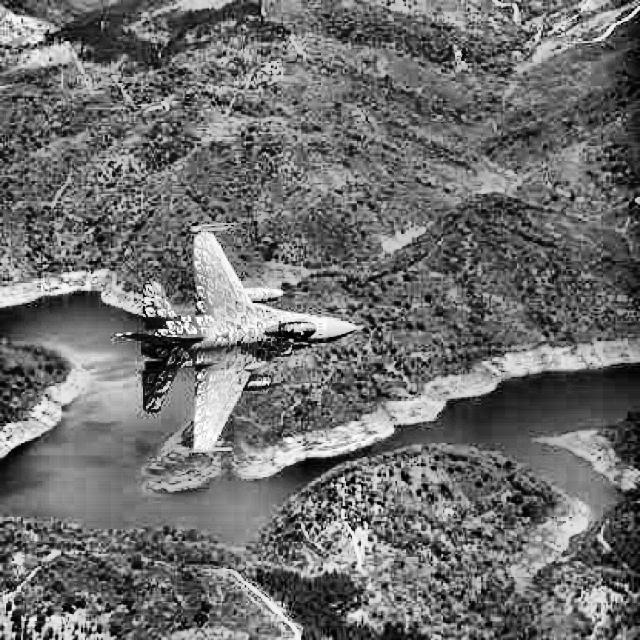F16: (117, 219, 366, 453)
